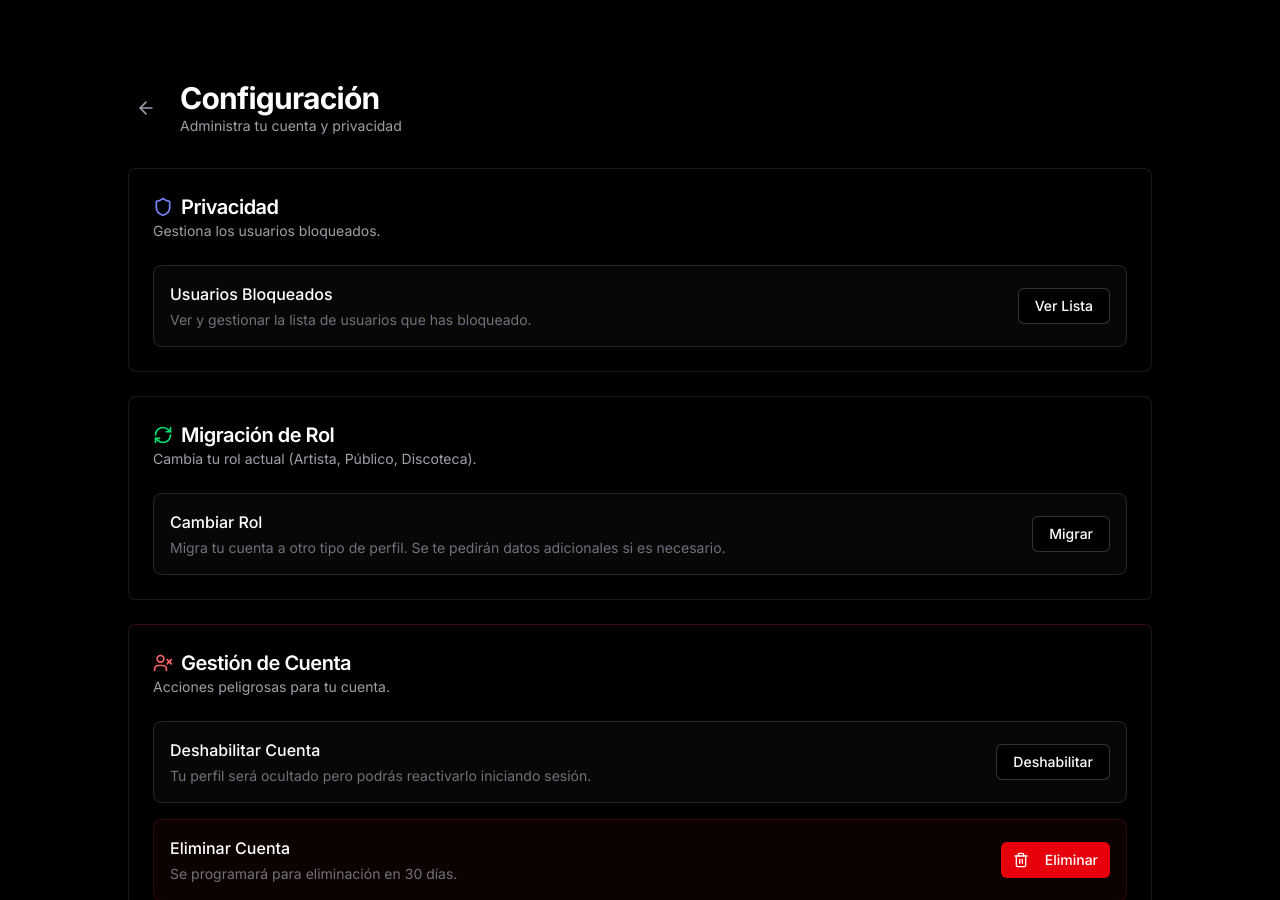
Test: PaginaConfiguracion › handles cargandoBloqueados state
Click the button "Ver Lista".
click(1064, 306)  # box [1018, 288, 1110, 324]
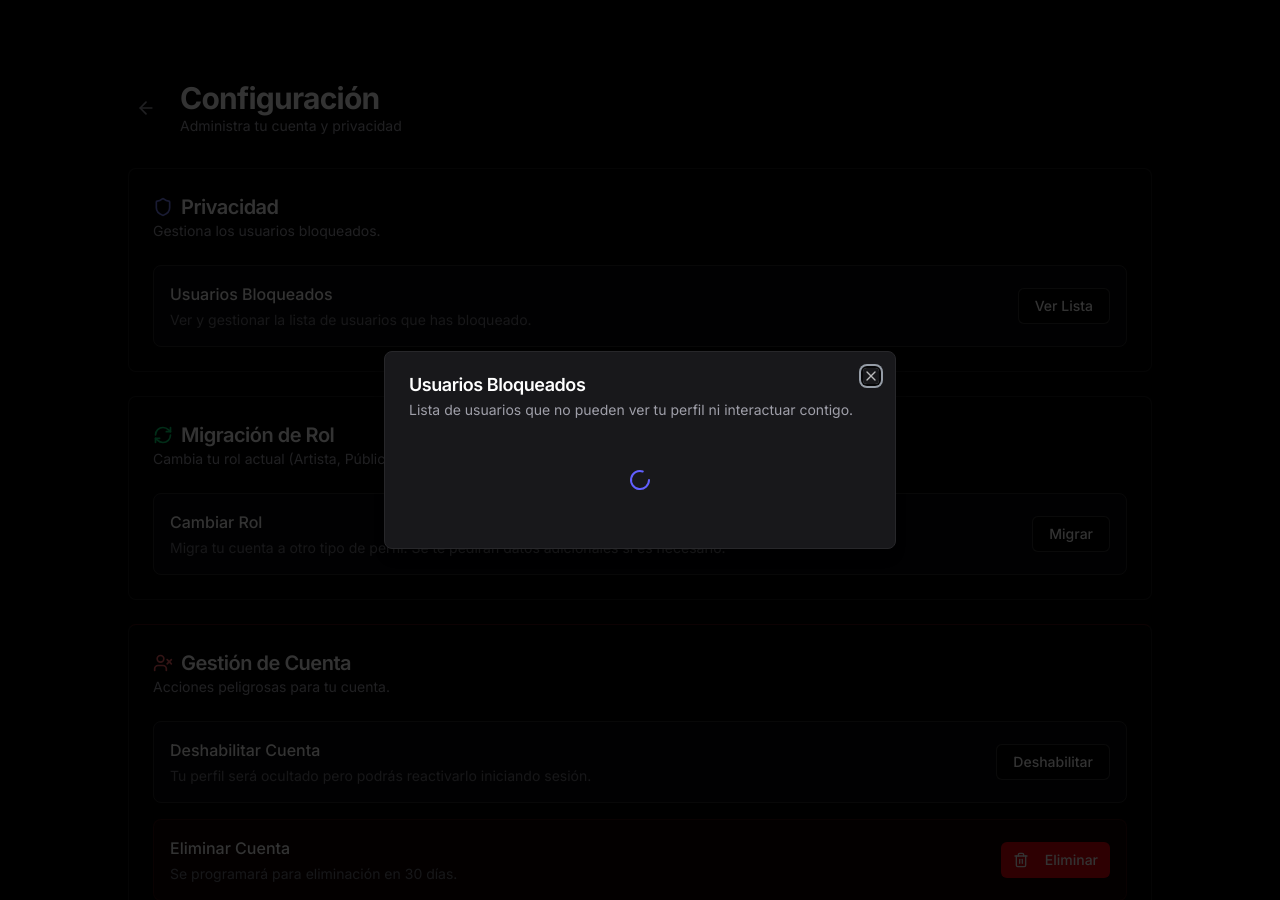
Check: the icon with class "animate-spin" is shown, box [628, 468, 652, 492]
